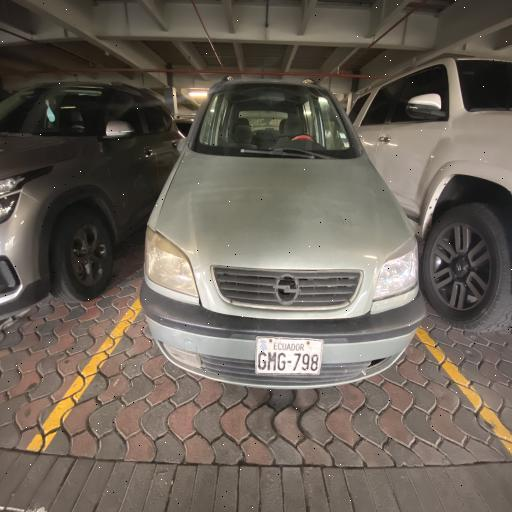license_plate: (292, 352, 302, 372), (258, 351, 267, 373), (277, 352, 286, 372), (268, 352, 277, 372), (302, 352, 310, 372), (310, 354, 318, 372)
